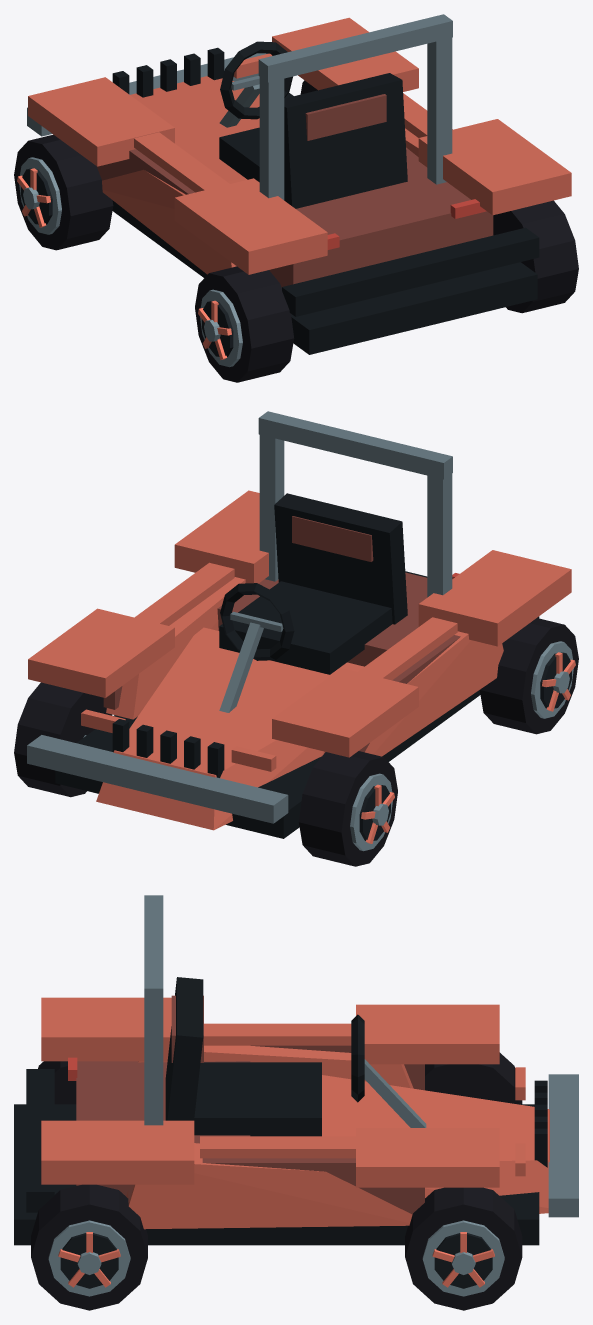
File: kart.glb
3 renders of one model, top to bottom at view 1: azimuth 30°, elevation 25°; view 2: azimuth 150°, elevation 25°; view 3: azimuth 270°, elevation 25°, orthographic. The views are drawn at different scales.
Parts seen in each view (by area): view 1: chassis, wheel-rear-left, wheel-front-left, wheel-rear-right; view 2: chassis, wheel-front-left, wheel-rear-left, wheel-front-right; view 3: chassis, wheel-front-right, wheel-rear-right, wheel-front-left, wheel-rear-left.
Boxes of the visible parts, x1,y1,x2,y2 form: chassis: [27, 14, 571, 354]; wheel-rear-left: [195, 266, 294, 382]; wheel-front-left: [14, 134, 113, 250]; wheel-rear-right: [493, 200, 578, 313]; chassis: [27, 411, 571, 838]; wheel-front-left: [298, 751, 397, 866]; wheel-rear-left: [479, 618, 578, 734]; wheel-front-right: [14, 682, 112, 797]; chassis: [14, 895, 578, 1245]; wheel-front-right: [405, 1187, 522, 1310]; wheel-rear-right: [31, 1184, 147, 1310]; wheel-front-left: [425, 1052, 522, 1104]; wheel-rear-left: [38, 1061, 76, 1104].
Bounding box in the file's own units: 2.24 × 1.67 × 2.99.
